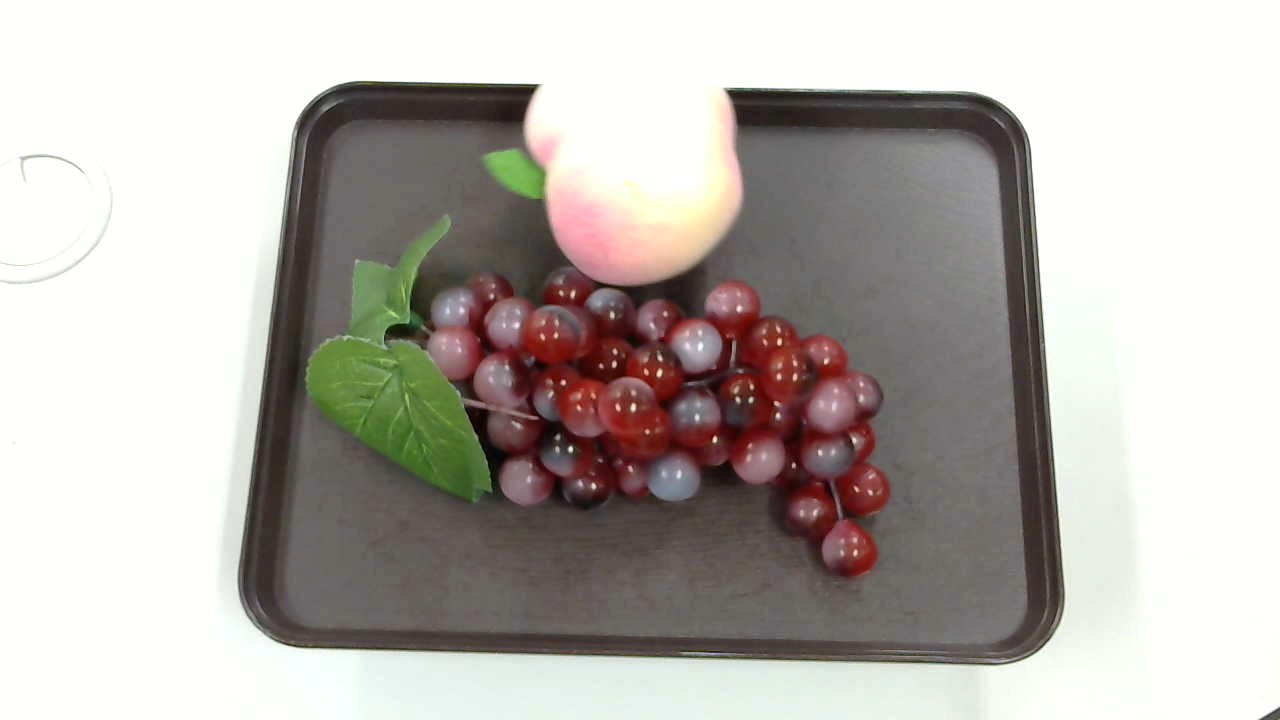grape: (298, 208, 910, 598)
peach: (481, 41, 749, 283)
